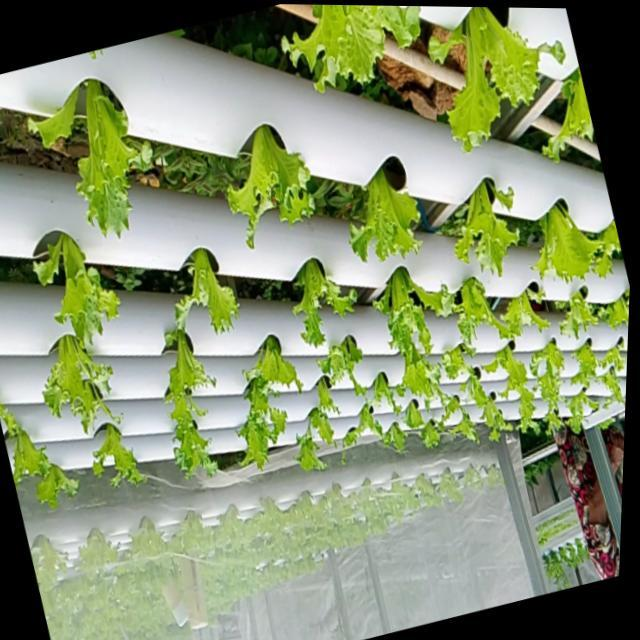Baby: (431, 7, 568, 154), (284, 5, 423, 92), (78, 79, 152, 237), (227, 123, 316, 248), (35, 232, 120, 346), (165, 319, 216, 476), (351, 156, 422, 260), (44, 334, 117, 432), (453, 177, 521, 275), (442, 276, 522, 348), (534, 202, 602, 285), (294, 257, 357, 346), (176, 247, 239, 333), (239, 378, 286, 468), (2, 412, 54, 487), (319, 333, 380, 394), (244, 333, 303, 390), (94, 422, 147, 484), (531, 338, 566, 426), (397, 342, 443, 405), (566, 390, 599, 432), (574, 342, 599, 387), (443, 345, 469, 379), (601, 366, 625, 402), (442, 393, 466, 422)
